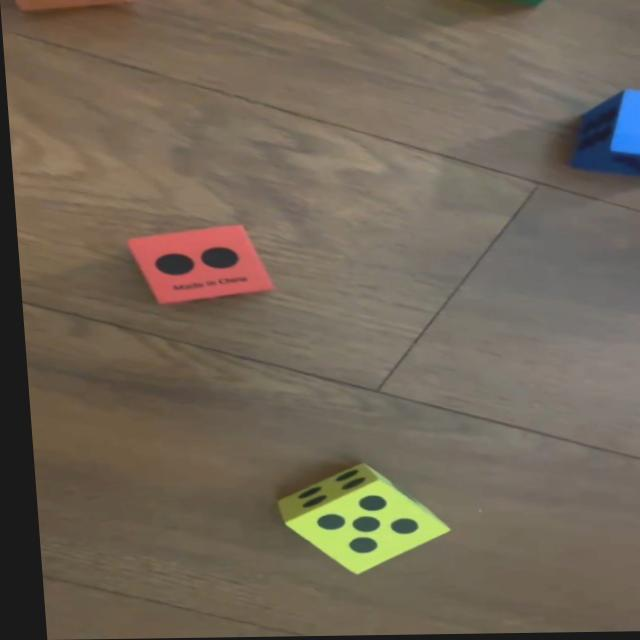cube: (125, 225, 268, 307), (567, 92, 640, 178), (497, 0, 551, 9)
